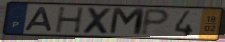4: (173, 10, 195, 38)
A: (23, 6, 55, 33)
H: (55, 6, 86, 34)
M: (107, 7, 147, 37)
P: (139, 7, 173, 37)
X: (81, 6, 115, 36)
